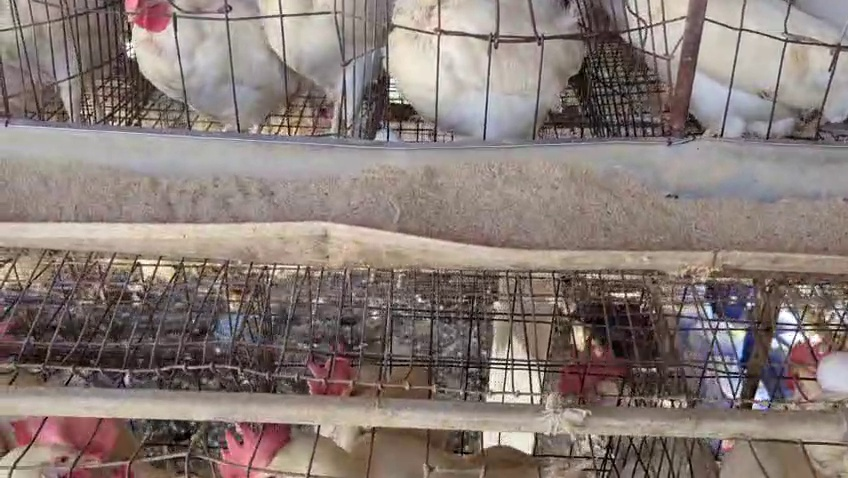egg: (814, 338, 848, 413)
